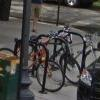Bicycle: (4, 28, 90, 97)
